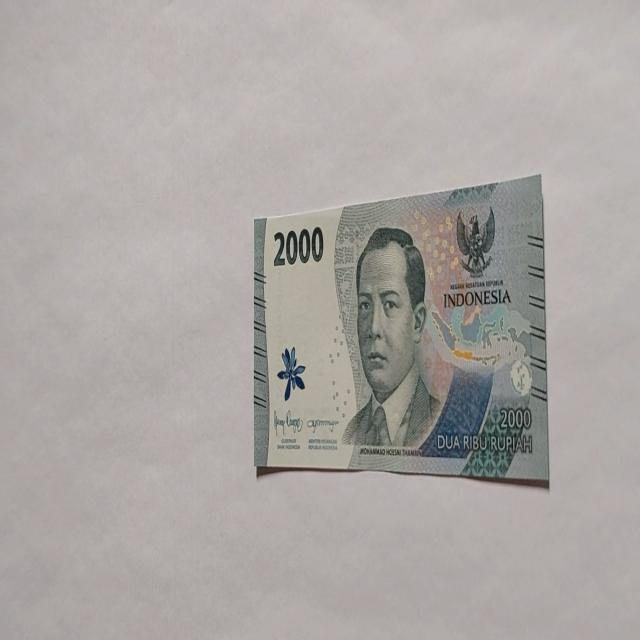dua ribu rupiah: (252, 172, 548, 484), (341, 225, 443, 450)
